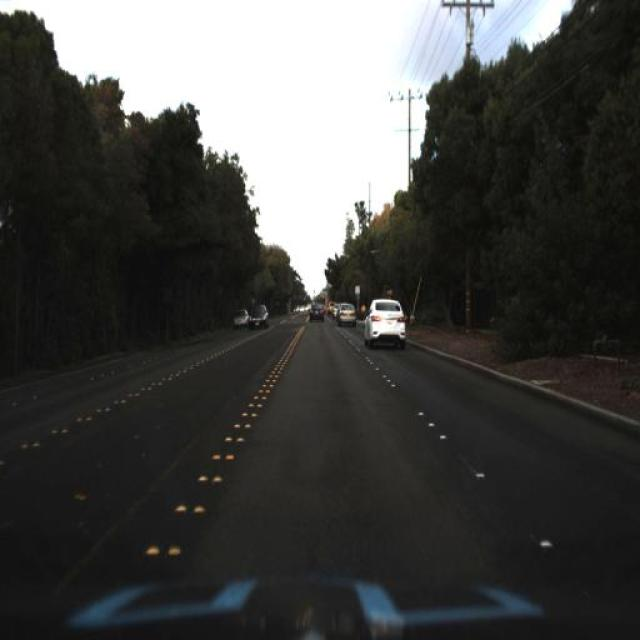car: (361, 298, 412, 352), (246, 300, 273, 335), (334, 299, 354, 331), (230, 308, 251, 332), (249, 303, 266, 329), (308, 304, 326, 328), (236, 307, 250, 329)
